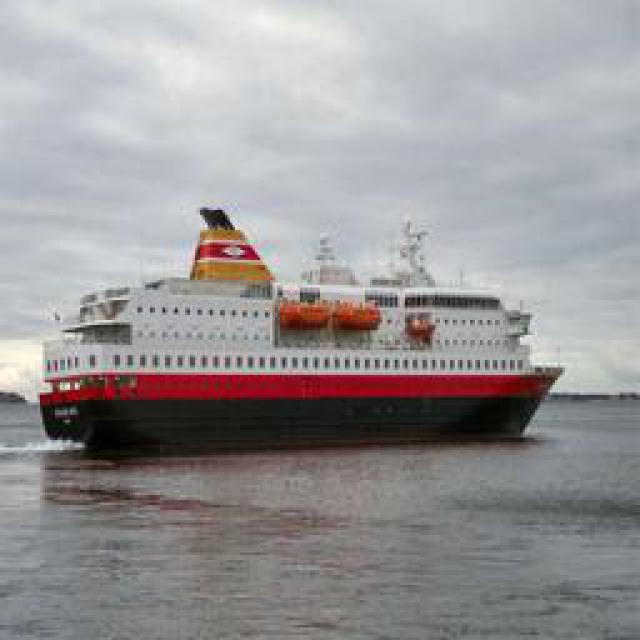Ship: (48, 203, 556, 448)
